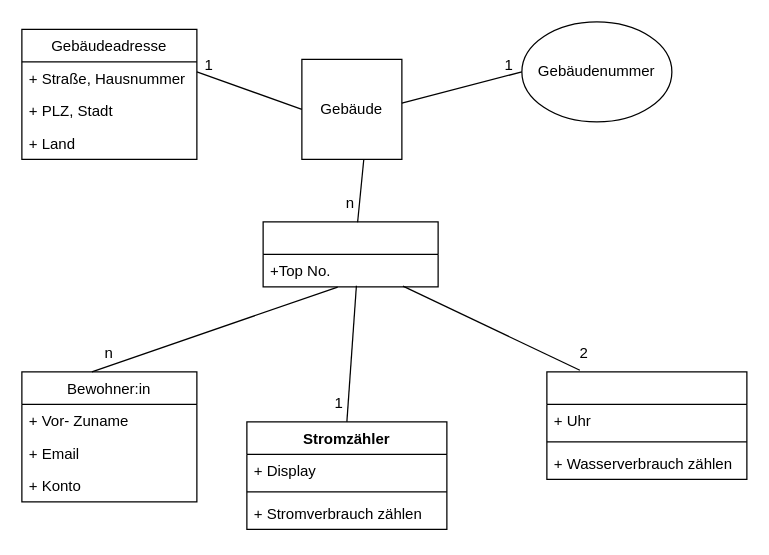
This 769x555 diagram has some shape labels left out. Each missing label, with the box of its shape:
Wasseruhr: (546, 371, 747, 479)
Wohungen: (262, 221, 438, 287)
